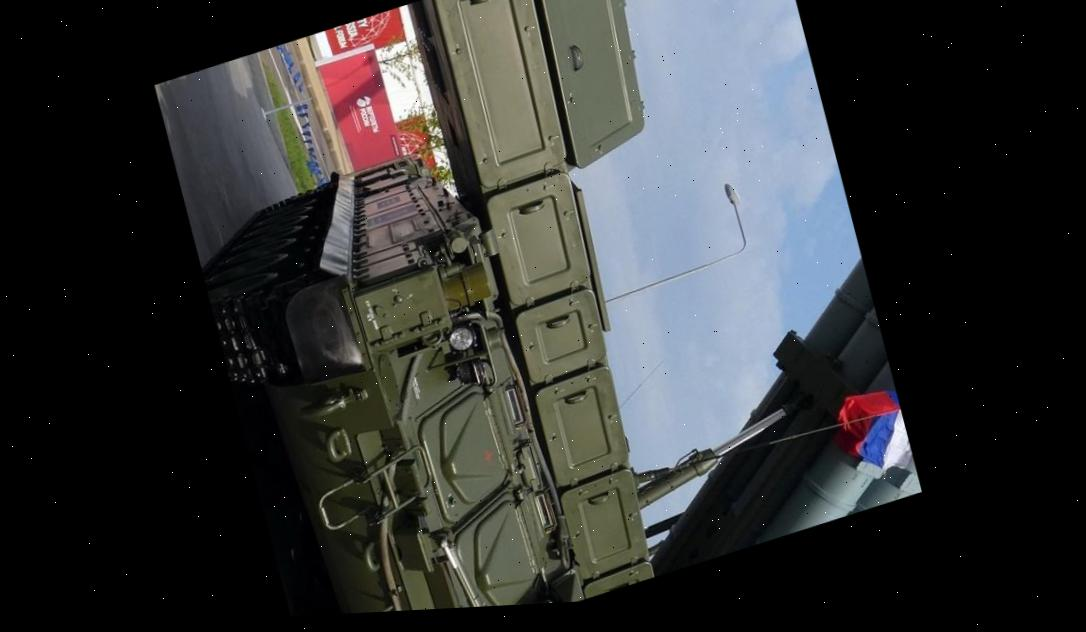rszo: (147, 0, 930, 624)
